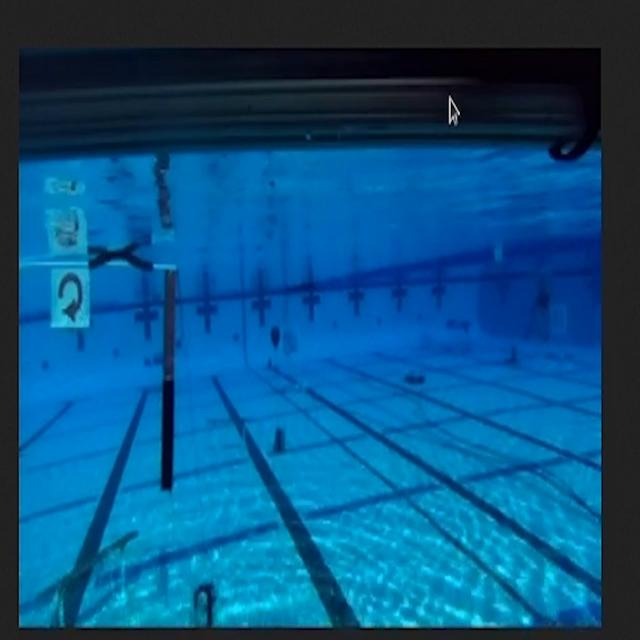Gate: (19, 255, 181, 500)
Path: (18, 519, 145, 623)
